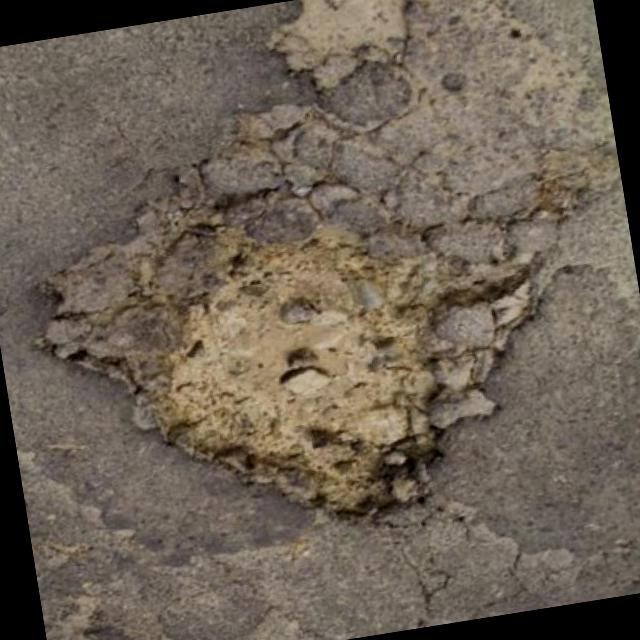pothole: (0, 58, 579, 576)
